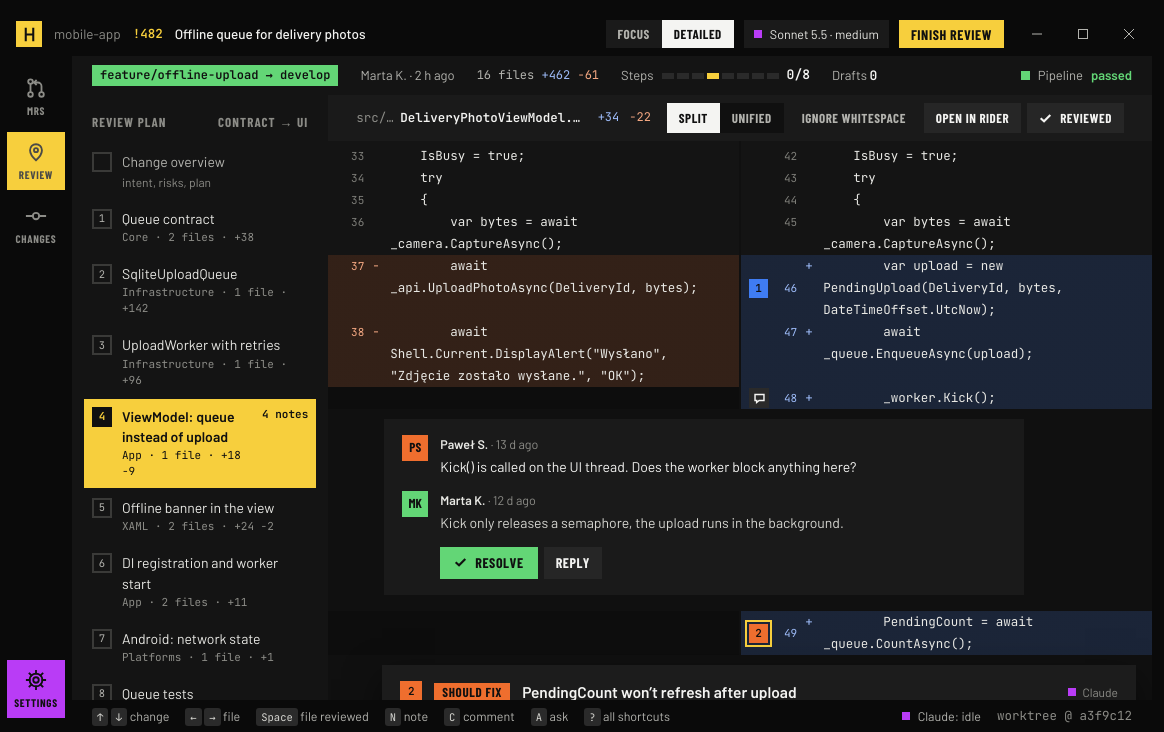
Test case: S-04 threads (F-11.1) › F-11.1 the thread icon sits on the thread’s line and closes and opens the card
(page scrolled)
Expected: the element named "Thread at line 48" is shown, 384,419 -> 1024,595
Expected: the element showing "48" is shown, 749,388 -> 797,408
Click the button named "Thread by Paweł S. at line 48": x=759, y=398 749,388 -> 769,408
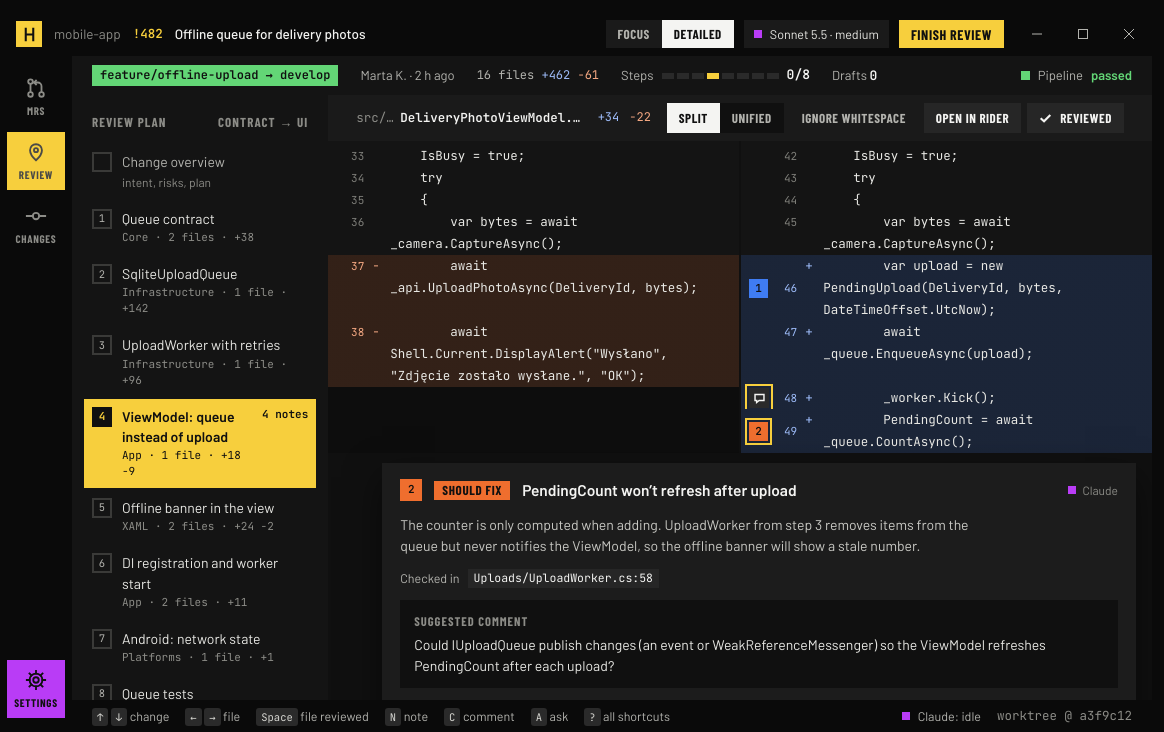
The icon stays, so the thread can be opened again.
Click the button named "Thread by Paweł S. at line 48": x=759, y=398 749,388 -> 769,408
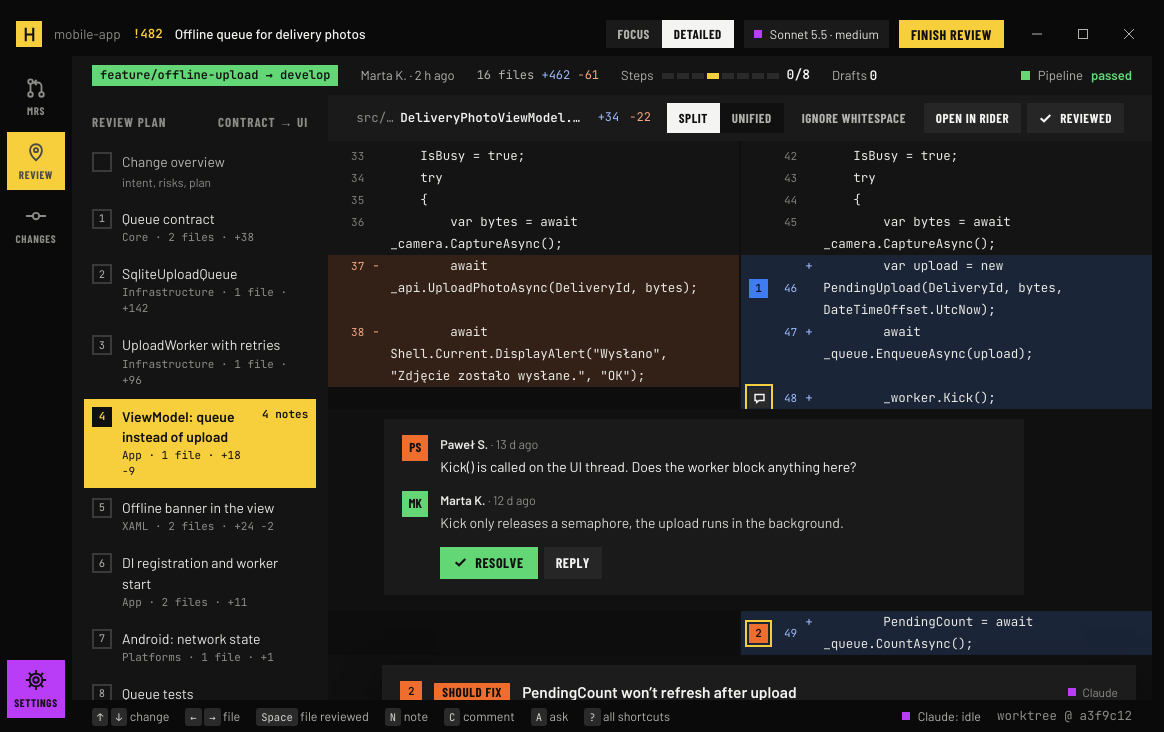
Expected: the element named "Thread at line 48" shows "Kick only releases a semaphore, the upload runs in the background.", 440,514 -> 844,531
